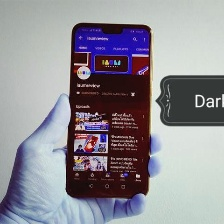phone: (61, 18, 156, 200)
